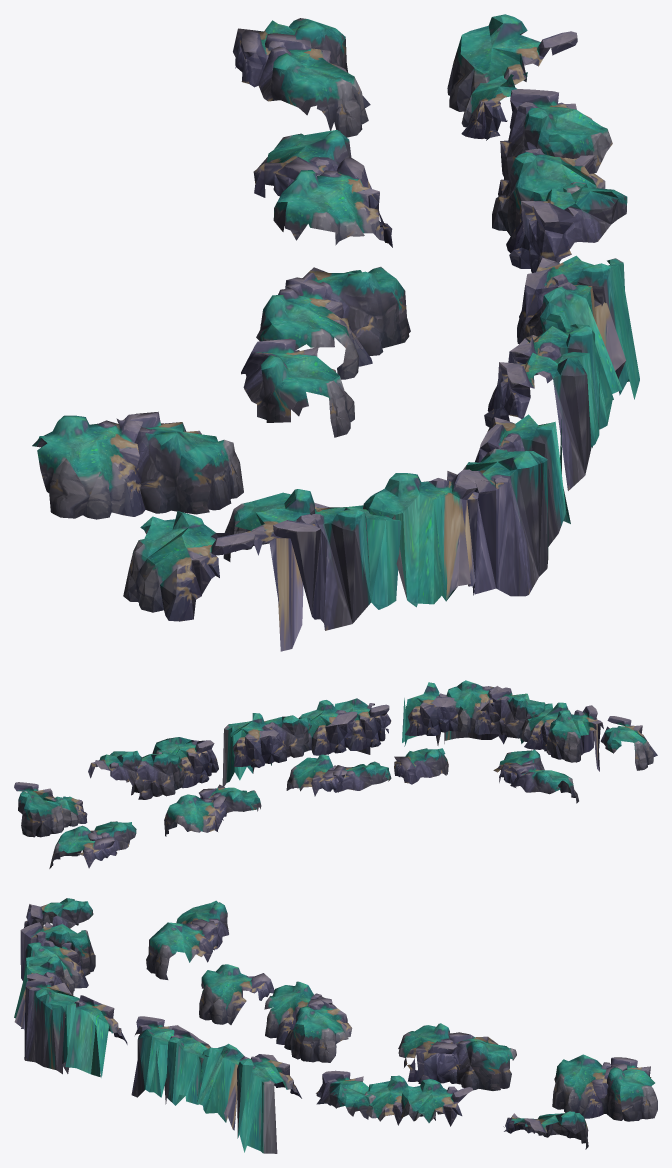
The model's file is yanshi_9_1.FBX.
3 renders of one model, top to bottom at view 1: azimuth 30°, elevation 25°; view 2: azimuth 150°, elevation 25°; view 3: azimuth 270°, elevation 25°, orthographic. The views are drawn at different scales.
Visible parts, largest first — view 1: yanshi_9_1; view 2: yanshi_9_1; view 3: yanshi_9_1.
Boxes of the visible parts, x1,y1,x2,y2 form: yanshi_9_1: (32, 14, 639, 651); yanshi_9_1: (14, 680, 657, 868); yanshi_9_1: (14, 898, 657, 1153).
Bounding box in the file's own units: 9930 × 1749 × 11138.
